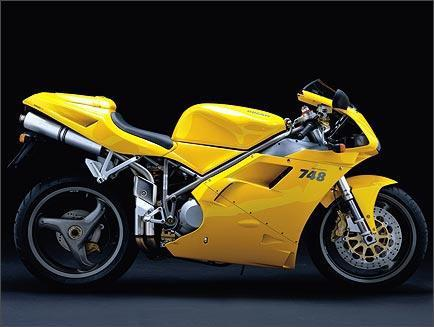motorcycle: (2, 61, 434, 308)
